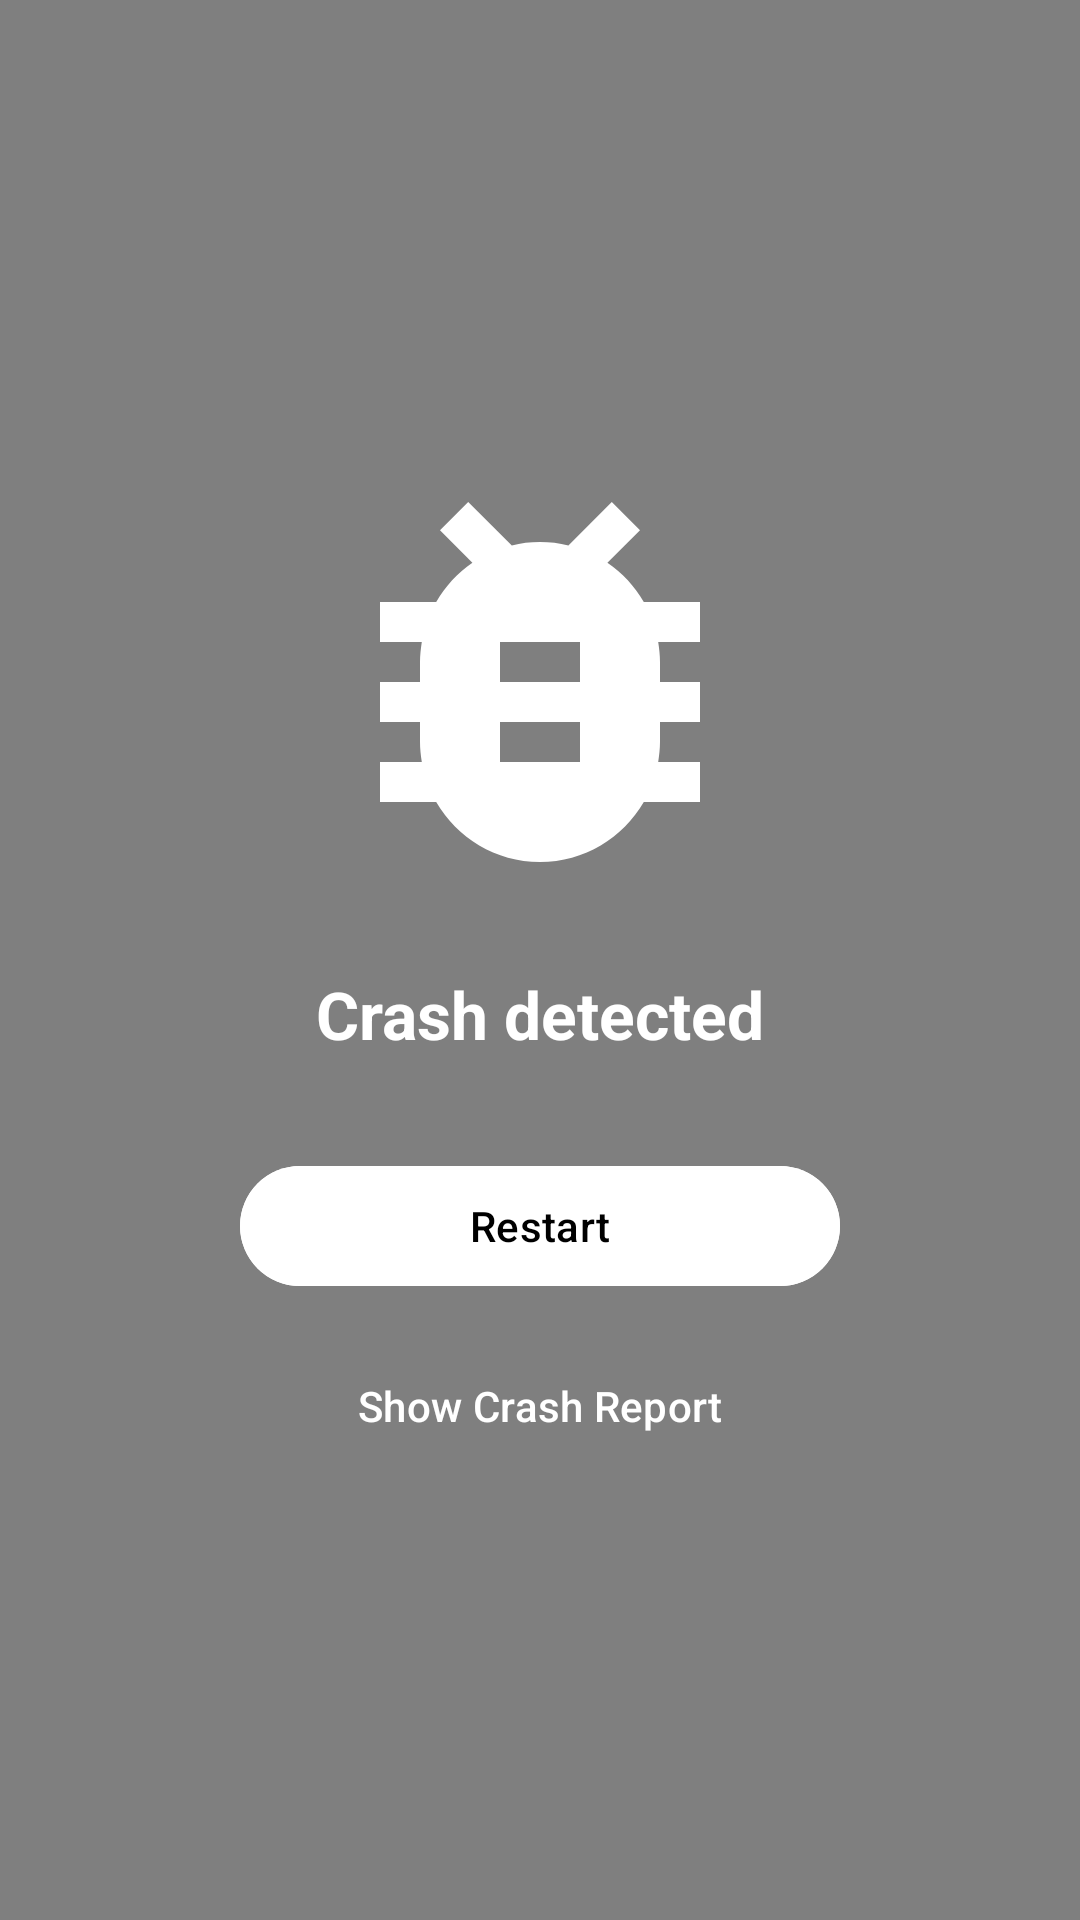

Locate icon controls on the screen. Image size 1080 × 1920, boxes as region(x1, y1, x2, y2).
bug: region(380, 502, 700, 862)
